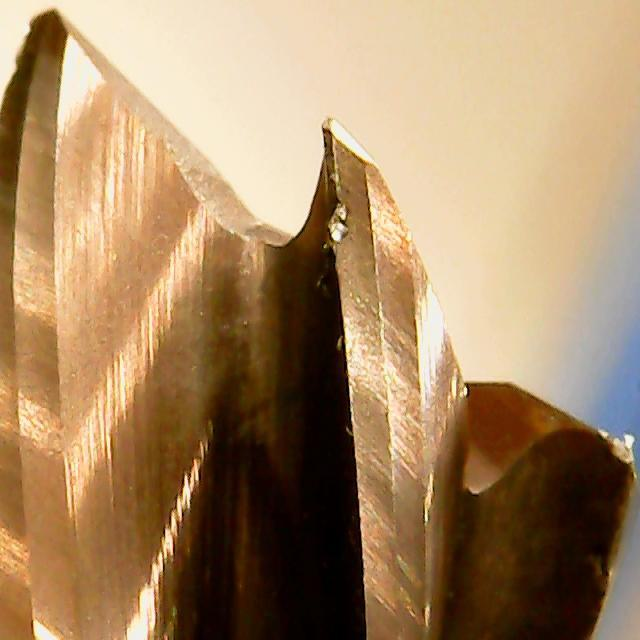Tool-wear-class-1: (308, 113, 433, 391)
